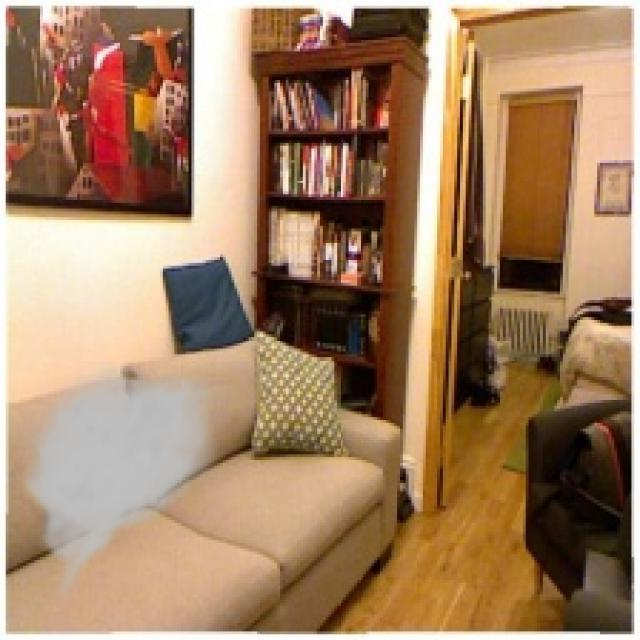smoke: (14, 360, 229, 609)
